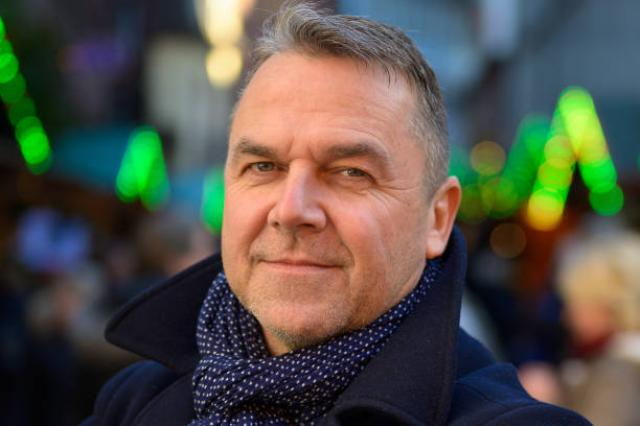crows_feet: (370, 174, 396, 206)
frown_line: (286, 142, 318, 166)
gummy_smile: (244, 207, 272, 248), (319, 206, 346, 246)
